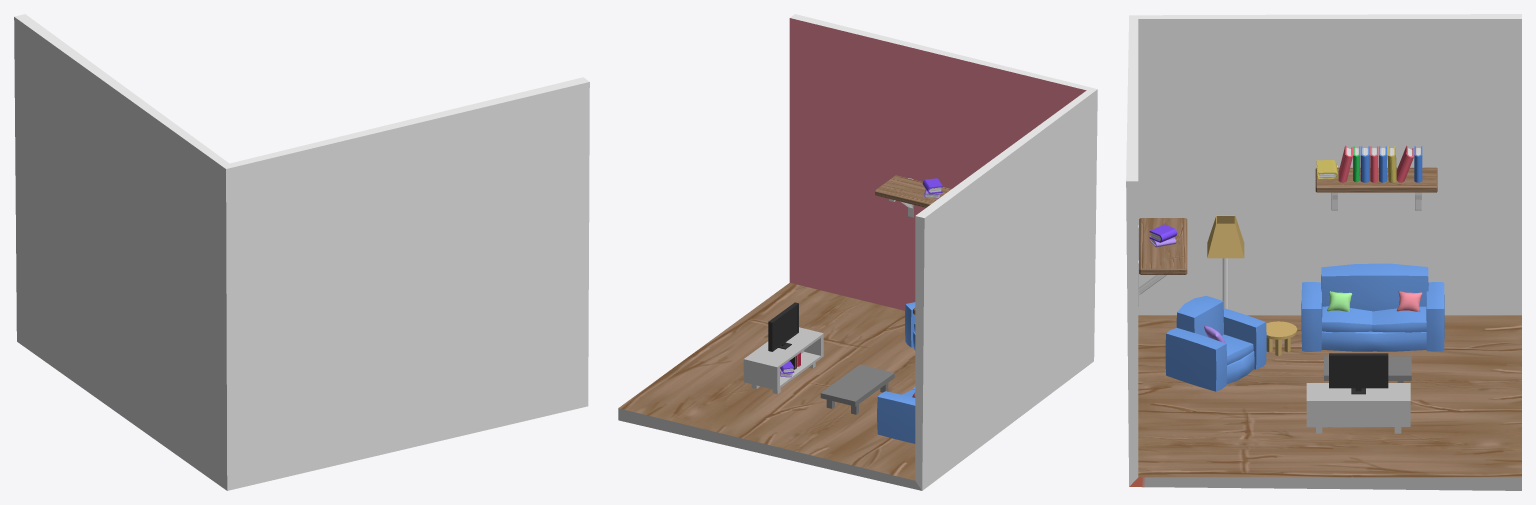
The model's file is cartoon-living-room-lowpoly-interior-2.fbx.
The picture shows the model from 3 angles, left to right: view 1: azimuth 30°, elevation 25°; view 2: azimuth 150°, elevation 25°; view 3: azimuth 270°, elevation 25°; orthographic projection. The views are drawn at different scales.
Parts seen in each view (by area): view 1: room_colors_0; view 2: room_colors_0, room_floor_0, tv table_colors_0, table _colors_0, couch_colors_0, shelf_Material.002_0, TV_colors_0, livre 1.004_colors_0; view 3: room_colors_0, room_floor_0, couch_colors_0, armchair_colors_0, tv table_colors_0, livre 1.004_colors_0, shelf_Material.002_0, TV_colors_0, shelf 2_Material.002_0, lamp_colors_0, coffee table_colors_0, table _colors_0 (+2 smaller).
Part boxes in pixels (x1,y1,x2,y2): room_colors_0: (14, 14, 589, 490); room_colors_0: (618, 14, 1097, 490); room_floor_0: (618, 283, 915, 480); tv table_colors_0: (743, 327, 823, 394); table _colors_0: (820, 364, 894, 414); couch_colors_0: (877, 386, 915, 443); shelf_Material.002_0: (875, 175, 951, 207); TV_colors_0: (768, 302, 798, 351); livre 1.004_colors_0: (780, 178, 942, 377); room_colors_0: (1126, 14, 1521, 490); room_floor_0: (1138, 315, 1521, 477); couch_colors_0: (1301, 263, 1444, 351); armchair_colors_0: (1165, 295, 1266, 391); tv table_colors_0: (1306, 383, 1410, 433); livre 1.004_colors_0: (1149, 145, 1422, 247); shelf_Material.002_0: (1139, 218, 1187, 274); TV_colors_0: (1329, 353, 1388, 394); shelf 2_Material.002_0: (1315, 167, 1437, 192); lamp_colors_0: (1207, 215, 1244, 309); coffee table_colors_0: (1266, 321, 1297, 356); table _colors_0: (1324, 356, 1411, 382).
Size of the model in its own units: 2111 by 1823 by 2111.
Materials: 5 (3 with a texture image).
